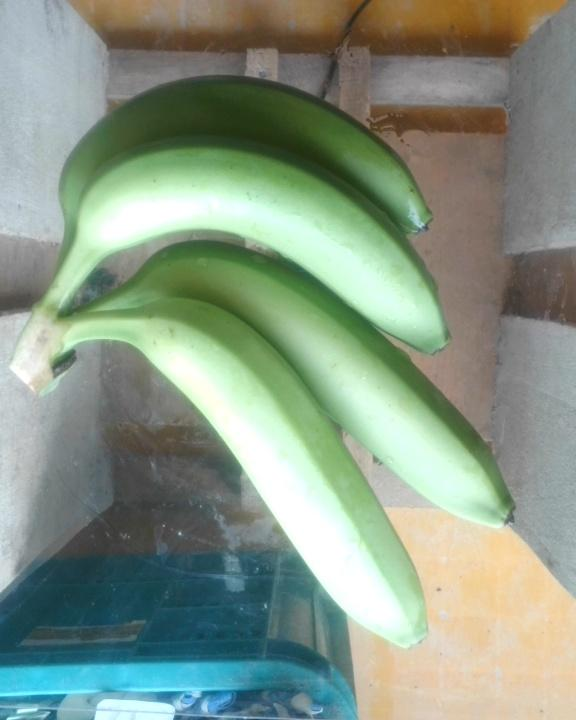SPOT: (4, 66, 529, 666)
